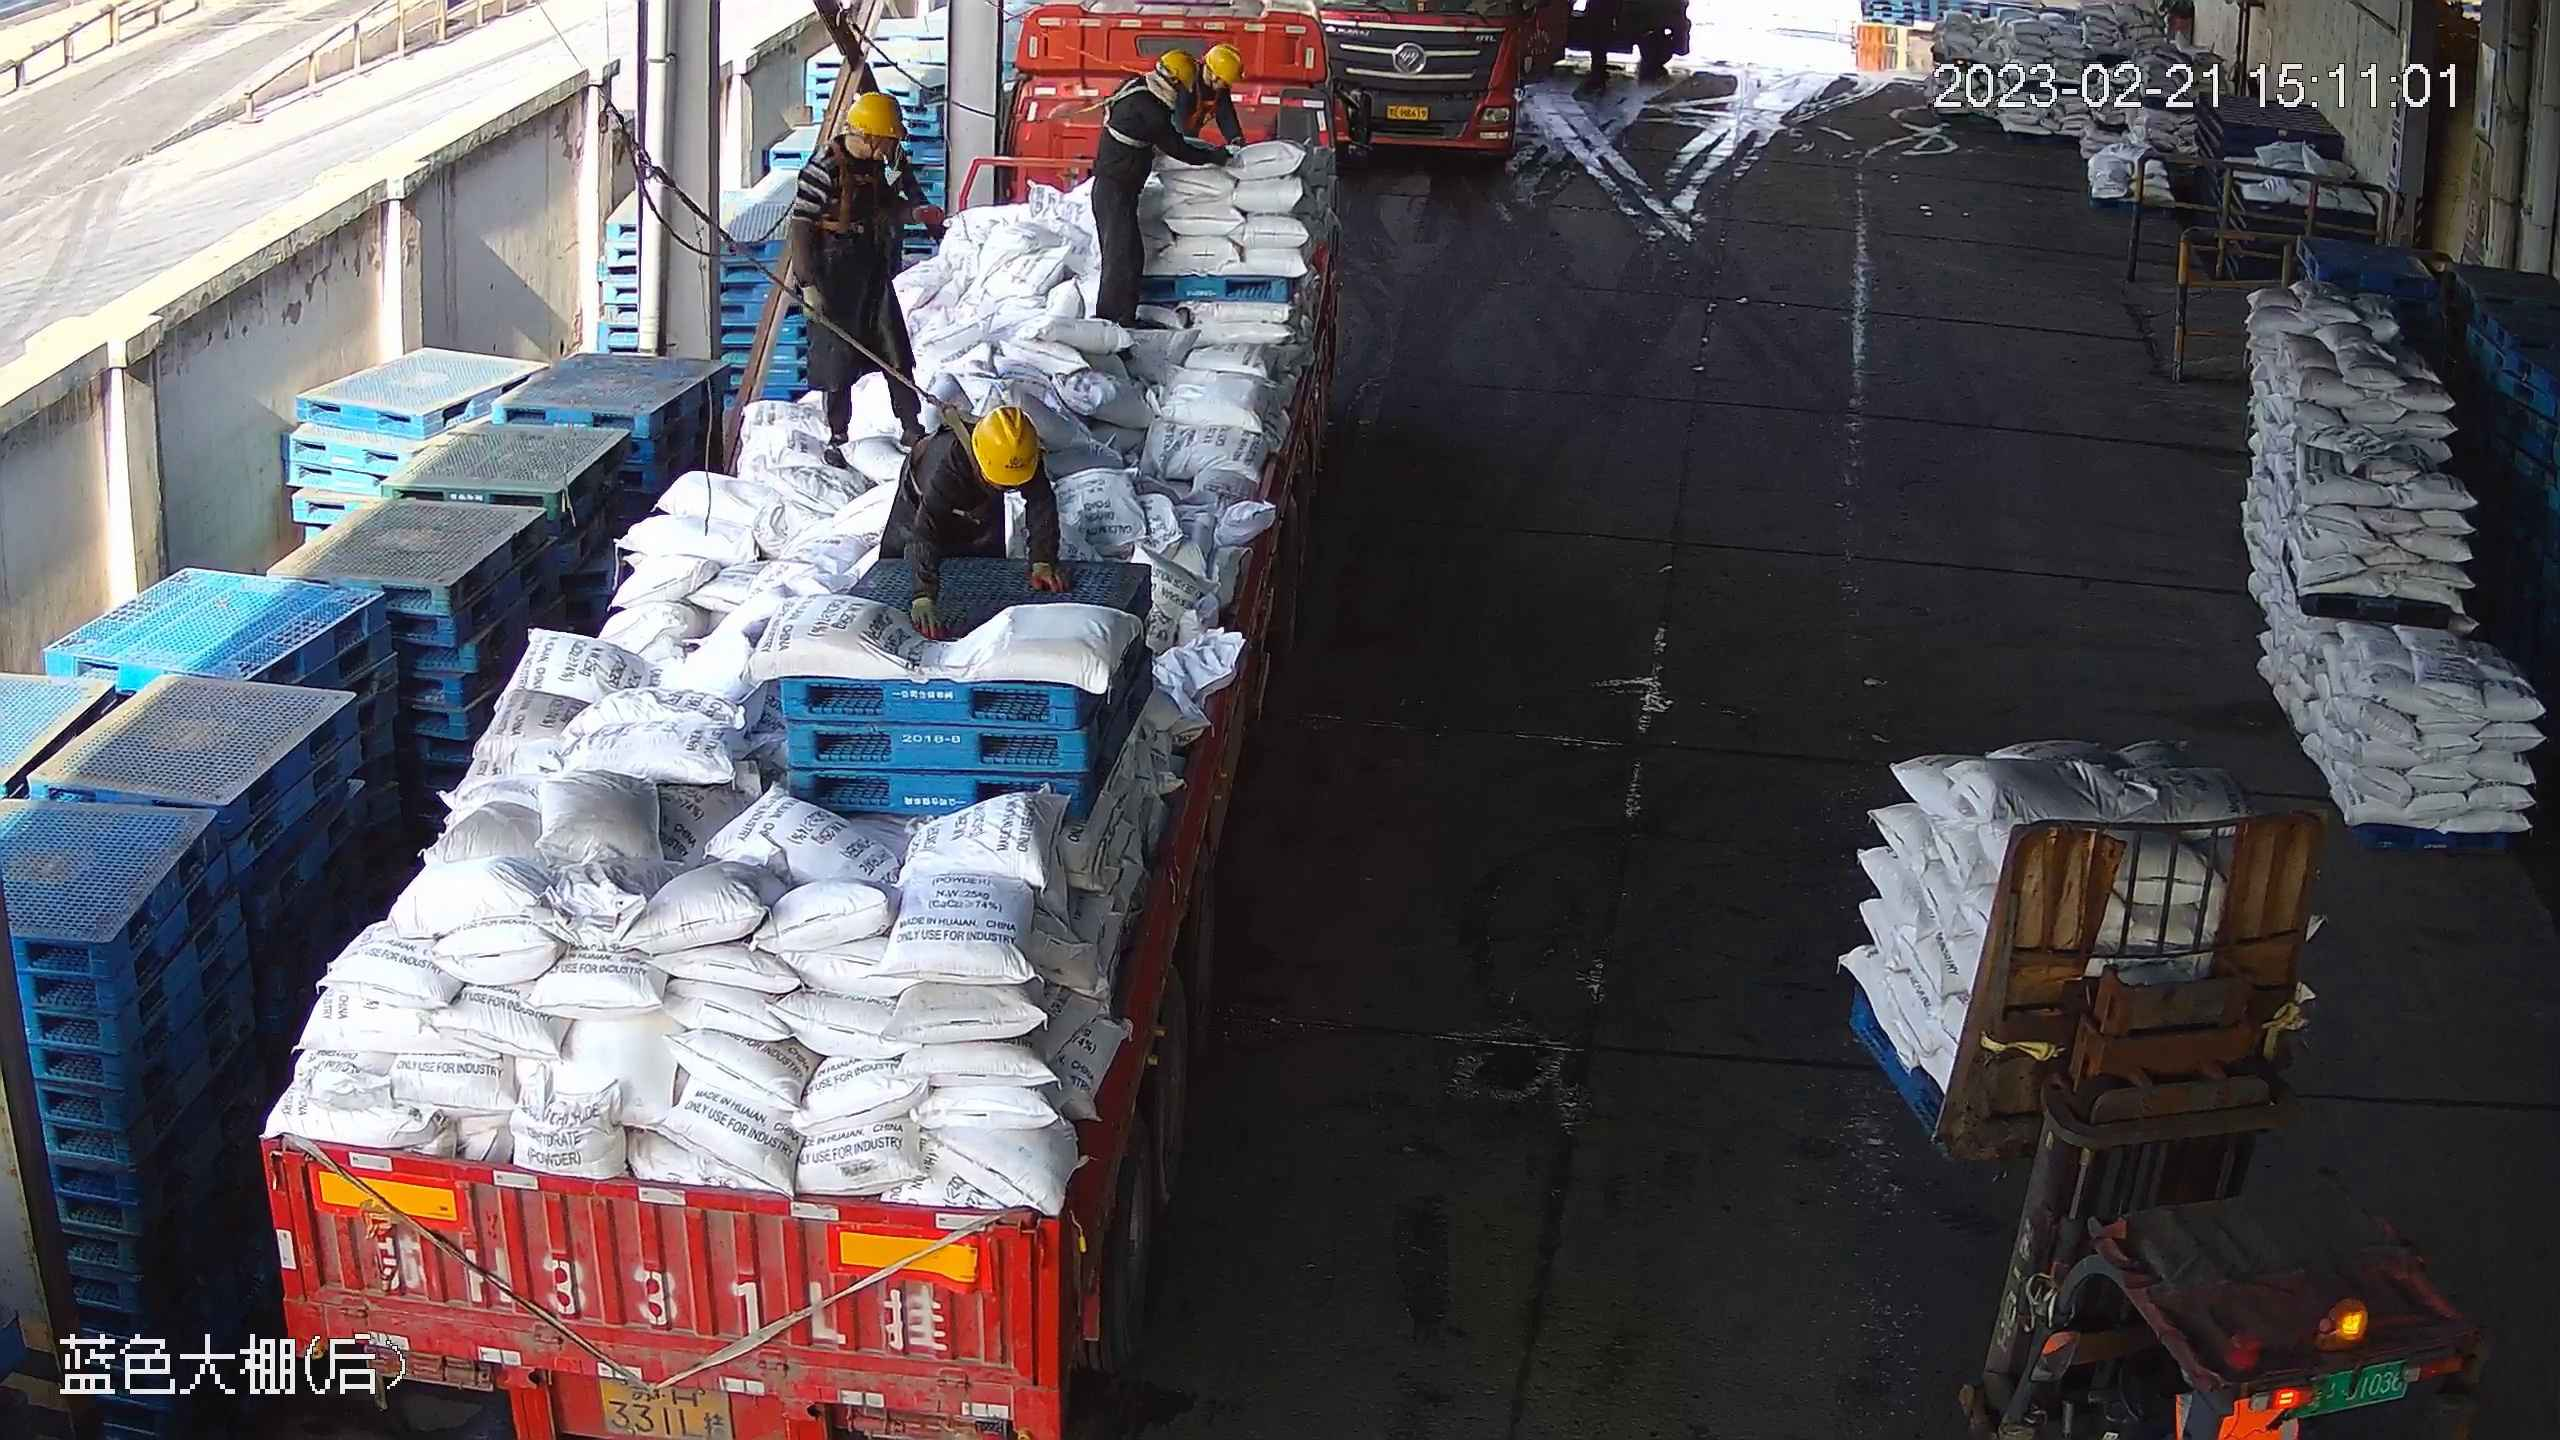belt: (909, 387, 984, 490), (813, 139, 888, 236), (1082, 75, 1153, 149), (1185, 82, 1222, 131)
head: (929, 406, 1059, 519), (797, 91, 920, 208), (1111, 50, 1199, 133)
helmet: (970, 405, 1040, 486), (845, 91, 907, 141), (1159, 48, 1199, 94), (1204, 41, 1246, 83)
people: (790, 90, 945, 470), (877, 406, 1070, 642), (1090, 49, 1229, 331)
truck: (251, 6, 1372, 1430), (1317, 1, 1568, 161)
